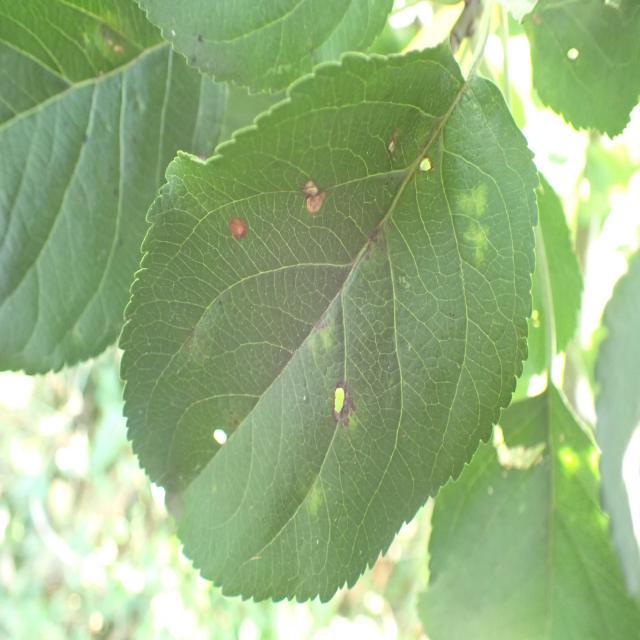frog-eye-leaf-spot: (118, 34, 540, 605)
